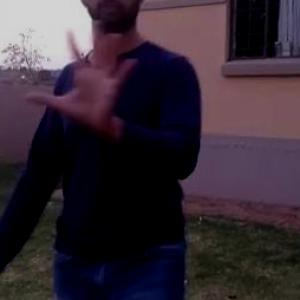follow_hand: (27, 14, 143, 132)
